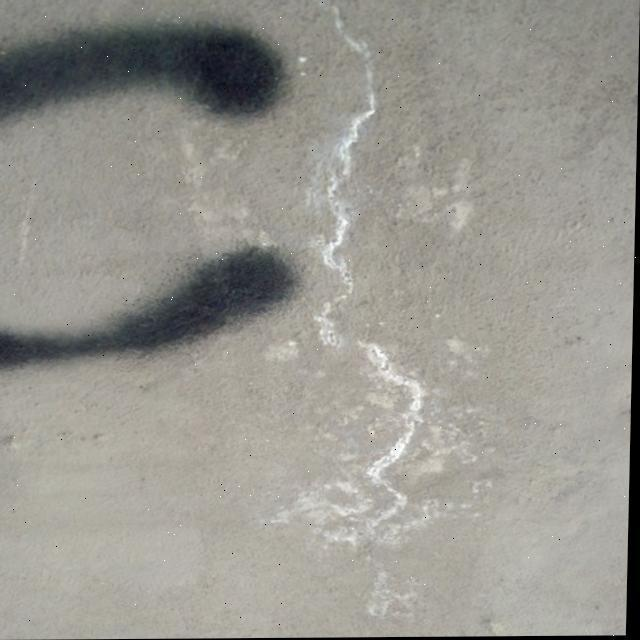D01: (322, 86, 377, 293), (366, 342, 425, 481)
